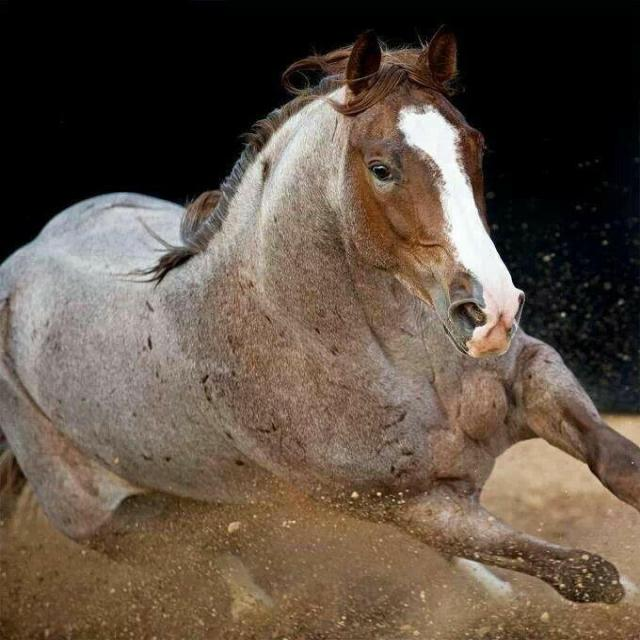horse: (0, 24, 639, 608)
